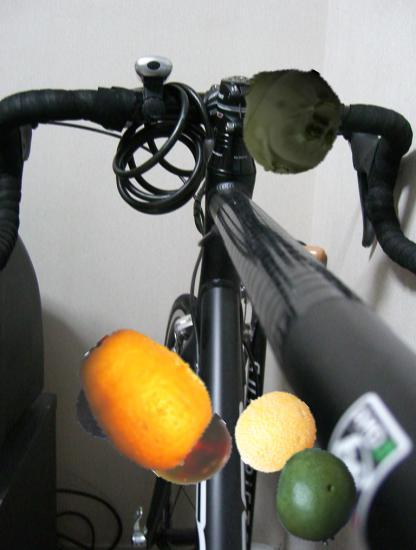Avocado: (72, 364, 146, 438)
Cantaloupe: (231, 389, 316, 474)
Kohlrabi: (230, 62, 343, 175)
Kumquats: (71, 325, 220, 474)
Mango: (268, 448, 366, 546)
Tomato: (145, 403, 231, 489)
